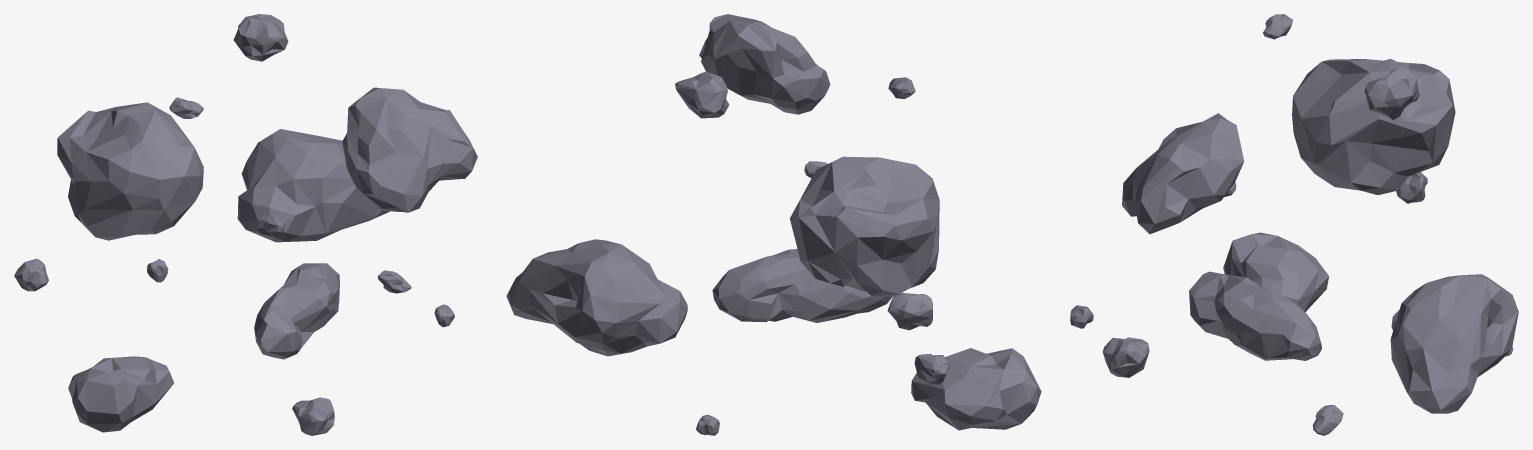
The model's file is Asteroides.fbx.
The picture shows the model from 3 angles, left to right: view 1: azimuth 30°, elevation 25°; view 2: azimuth 150°, elevation 25°; view 3: azimuth 270°, elevation 25°; orthographic projection. The views are drawn at different scales.
Visible parts, largest first — view 1: Asteroids.001, Asteroids.002, Asteroids.012, Asteroids.003, Asteroids.004, Asteroids.005, Asteroids, Asteroids.006, Asteroids.010, Asteroids.011, Asteroids.009; view 2: Asteroids.001, Asteroids.012, Asteroids.002, Asteroids.004, Asteroids.003, Asteroids.005, Asteroids, Asteroids.006; view 3: Asteroids.001, Asteroids.012, Asteroids.002, Asteroids.004, Asteroids.003, Asteroids.005, Asteroids, Asteroids.006, Asteroids.010, Asteroids.011, Asteroids.007.
Boxes of the visible parts, x1,y1,x2,y2 form: Asteroids.001: (57,102,203,240); Asteroids.002: (342,87,477,212); Asteroids.012: (237,129,389,242); Asteroids.003: (68,356,173,432); Asteroids.004: (254,263,339,359); Asteroids.005: (233,14,288,61); Asteroids: (292,397,334,435); Asteroids.006: (14,258,48,291); Asteroids.010: (377,270,411,293); Asteroids.011: (169,97,203,118); Asteroids.009: (255,214,284,236); Asteroids.001: (790,156,939,296); Asteroids.012: (506,239,687,356); Asteroids.002: (699,14,830,114); Asteroids.004: (712,249,892,322); Asteroids.003: (911,348,1041,430); Asteroids.005: (675,71,729,118); Asteroids: (887,293,932,330); Asteroids.006: (914,353,950,384); Asteroids.001: (1292,59,1455,194); Asteroids.012: (1390,274,1518,413); Asteroids.002: (1122,113,1244,234); Asteroids.004: (1189,271,1321,360); Asteroids.003: (1223,232,1328,311); Asteroids.005: (1364,68,1419,120); Asteroids: (1102,337,1149,377); Asteroids.006: (1396,172,1427,203); Asteroids.010: (1312,405,1343,435); Asteroids.011: (1263,14,1292,39); Asteroids.007: (1070,305,1093,328).
Bounding box in the file's own units: 2066 × 1548 × 1801.
Materials: 1 (1 with a texture image).
